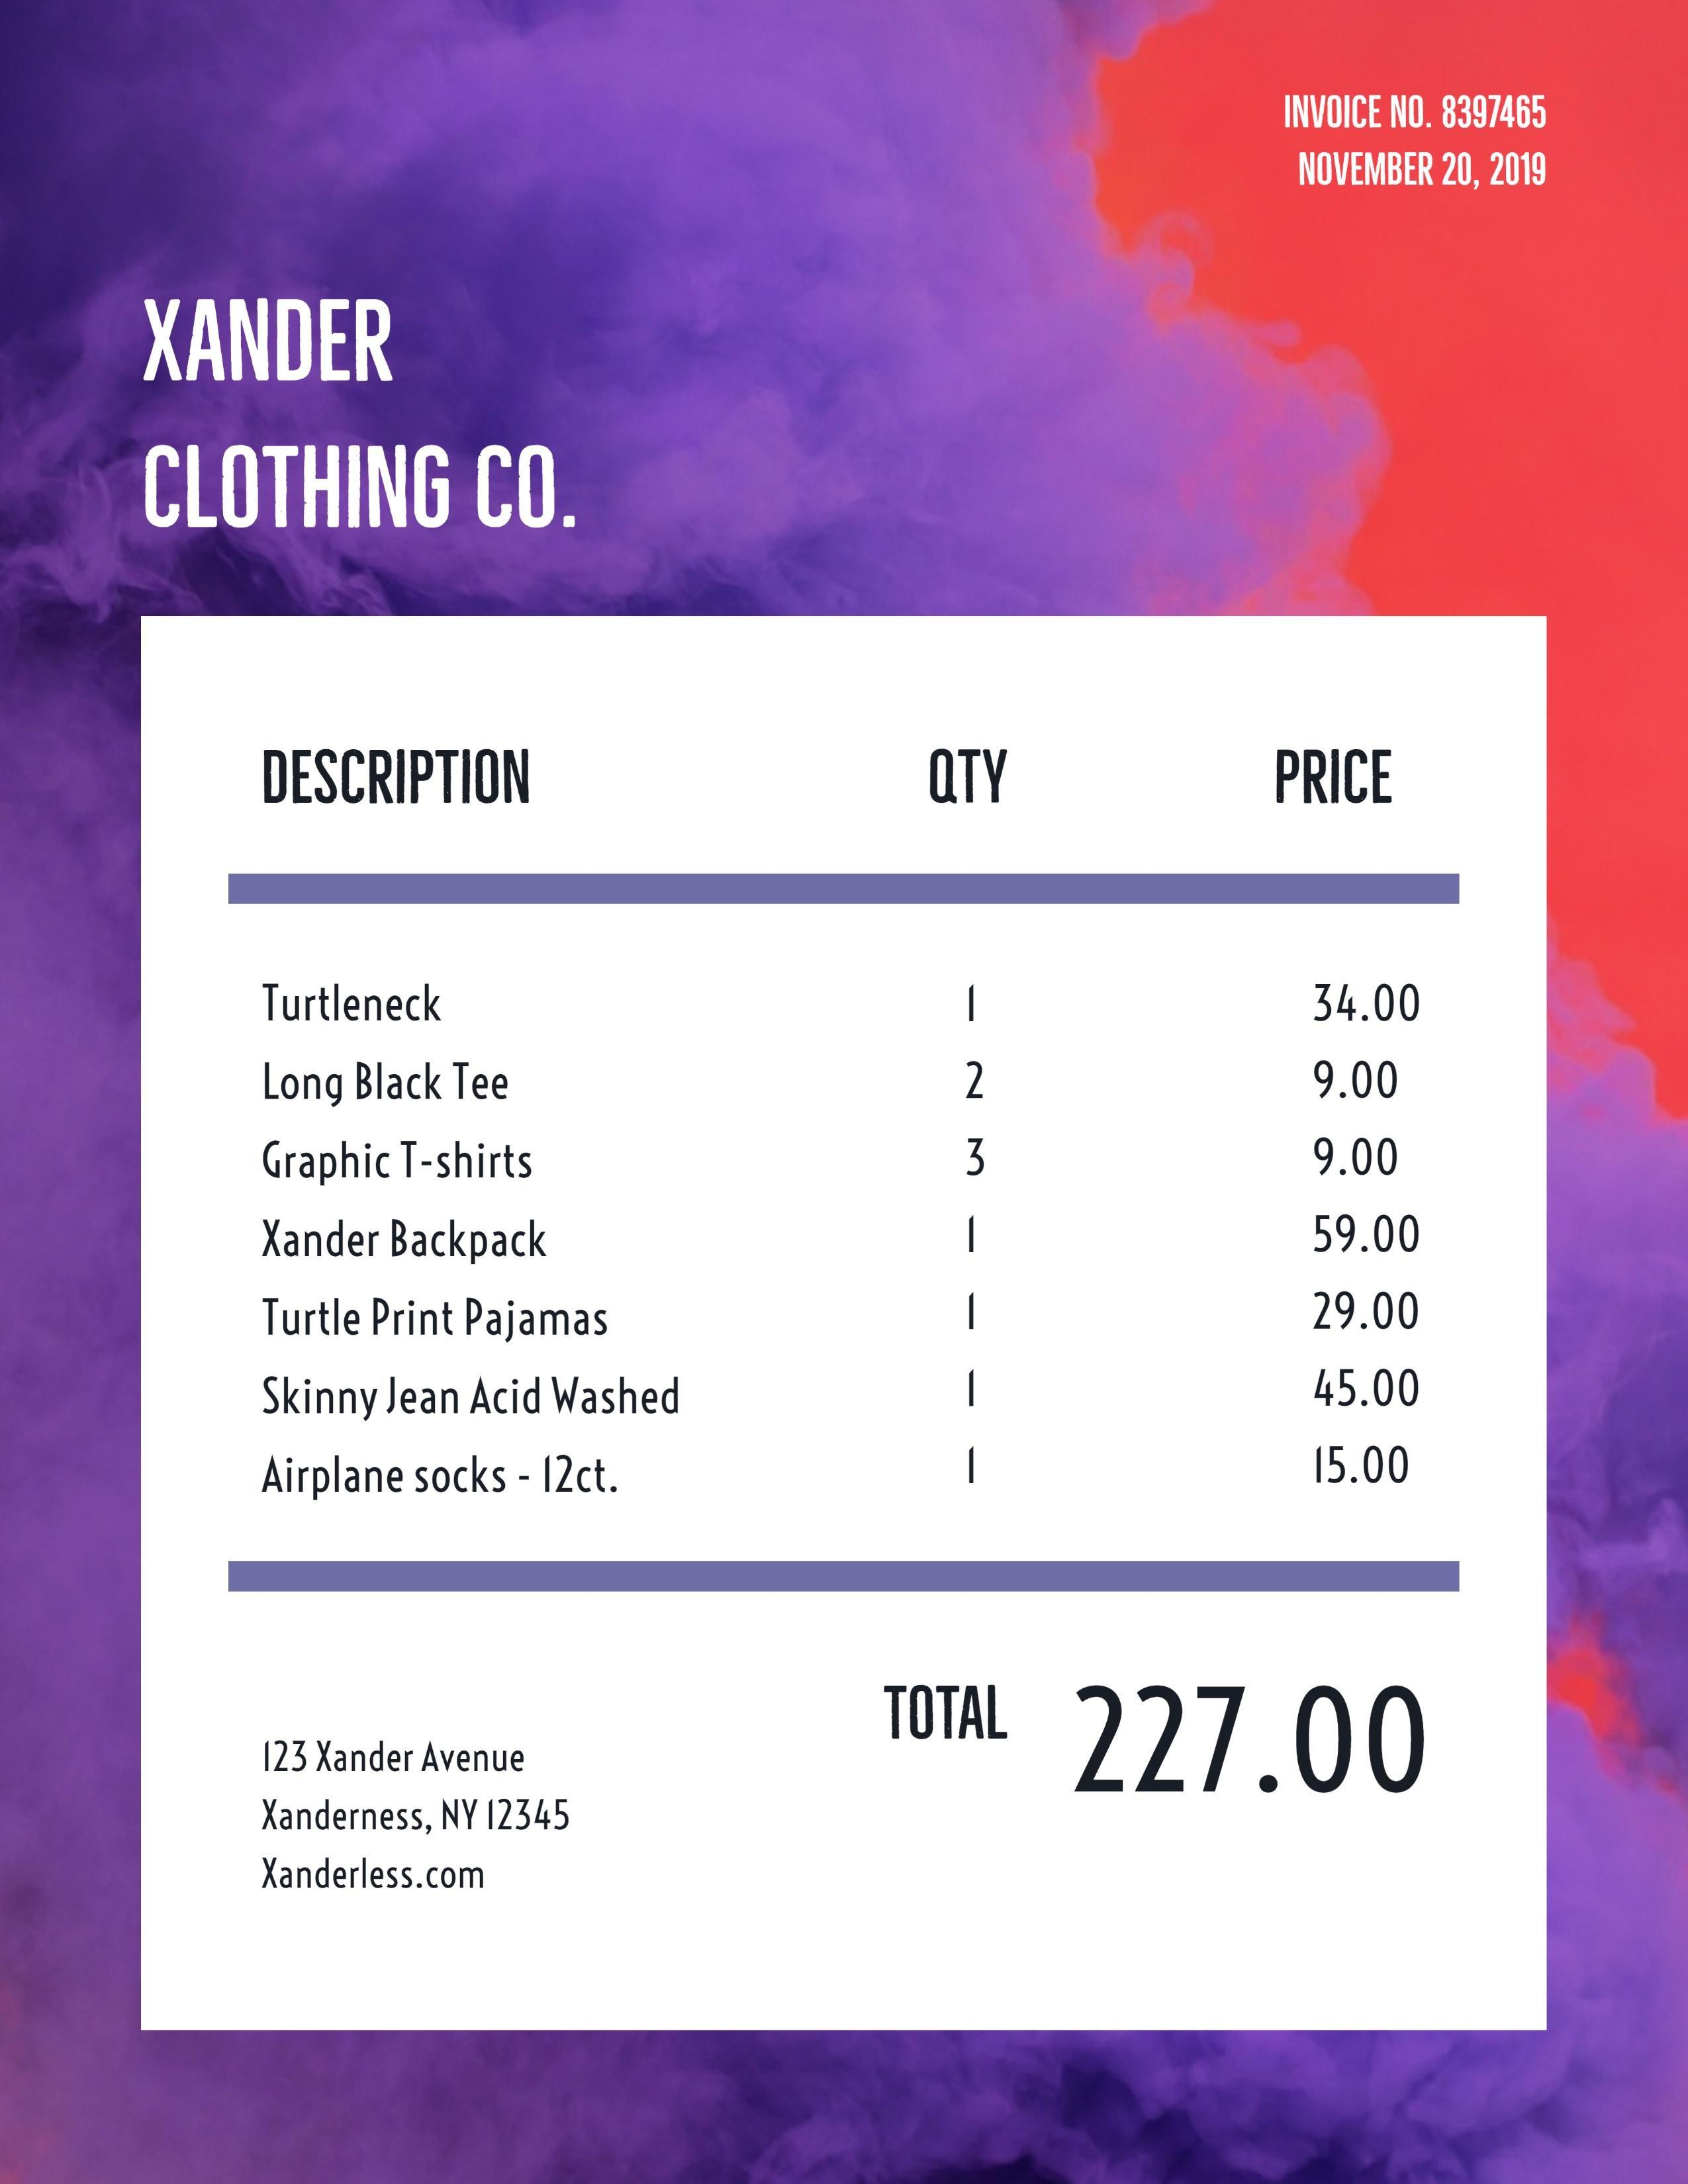ROI: (232, 743, 1470, 1516), (129, 292, 598, 555), (865, 1659, 1436, 1819), (1241, 76, 1571, 200)
